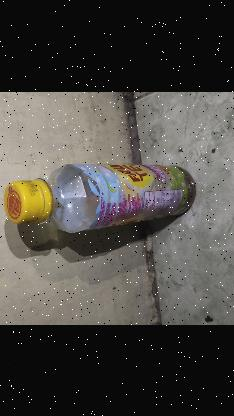Plastic Bottle: (4, 162, 196, 232)
